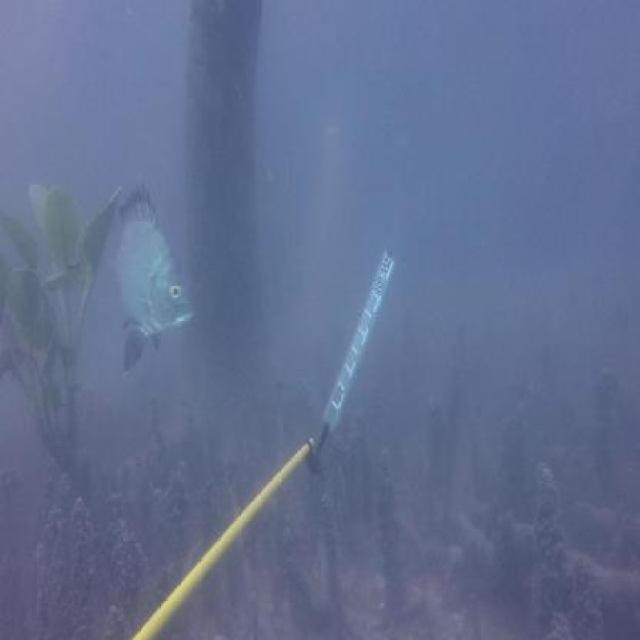acanthopagrus_palmaris: (116, 186, 199, 377)
